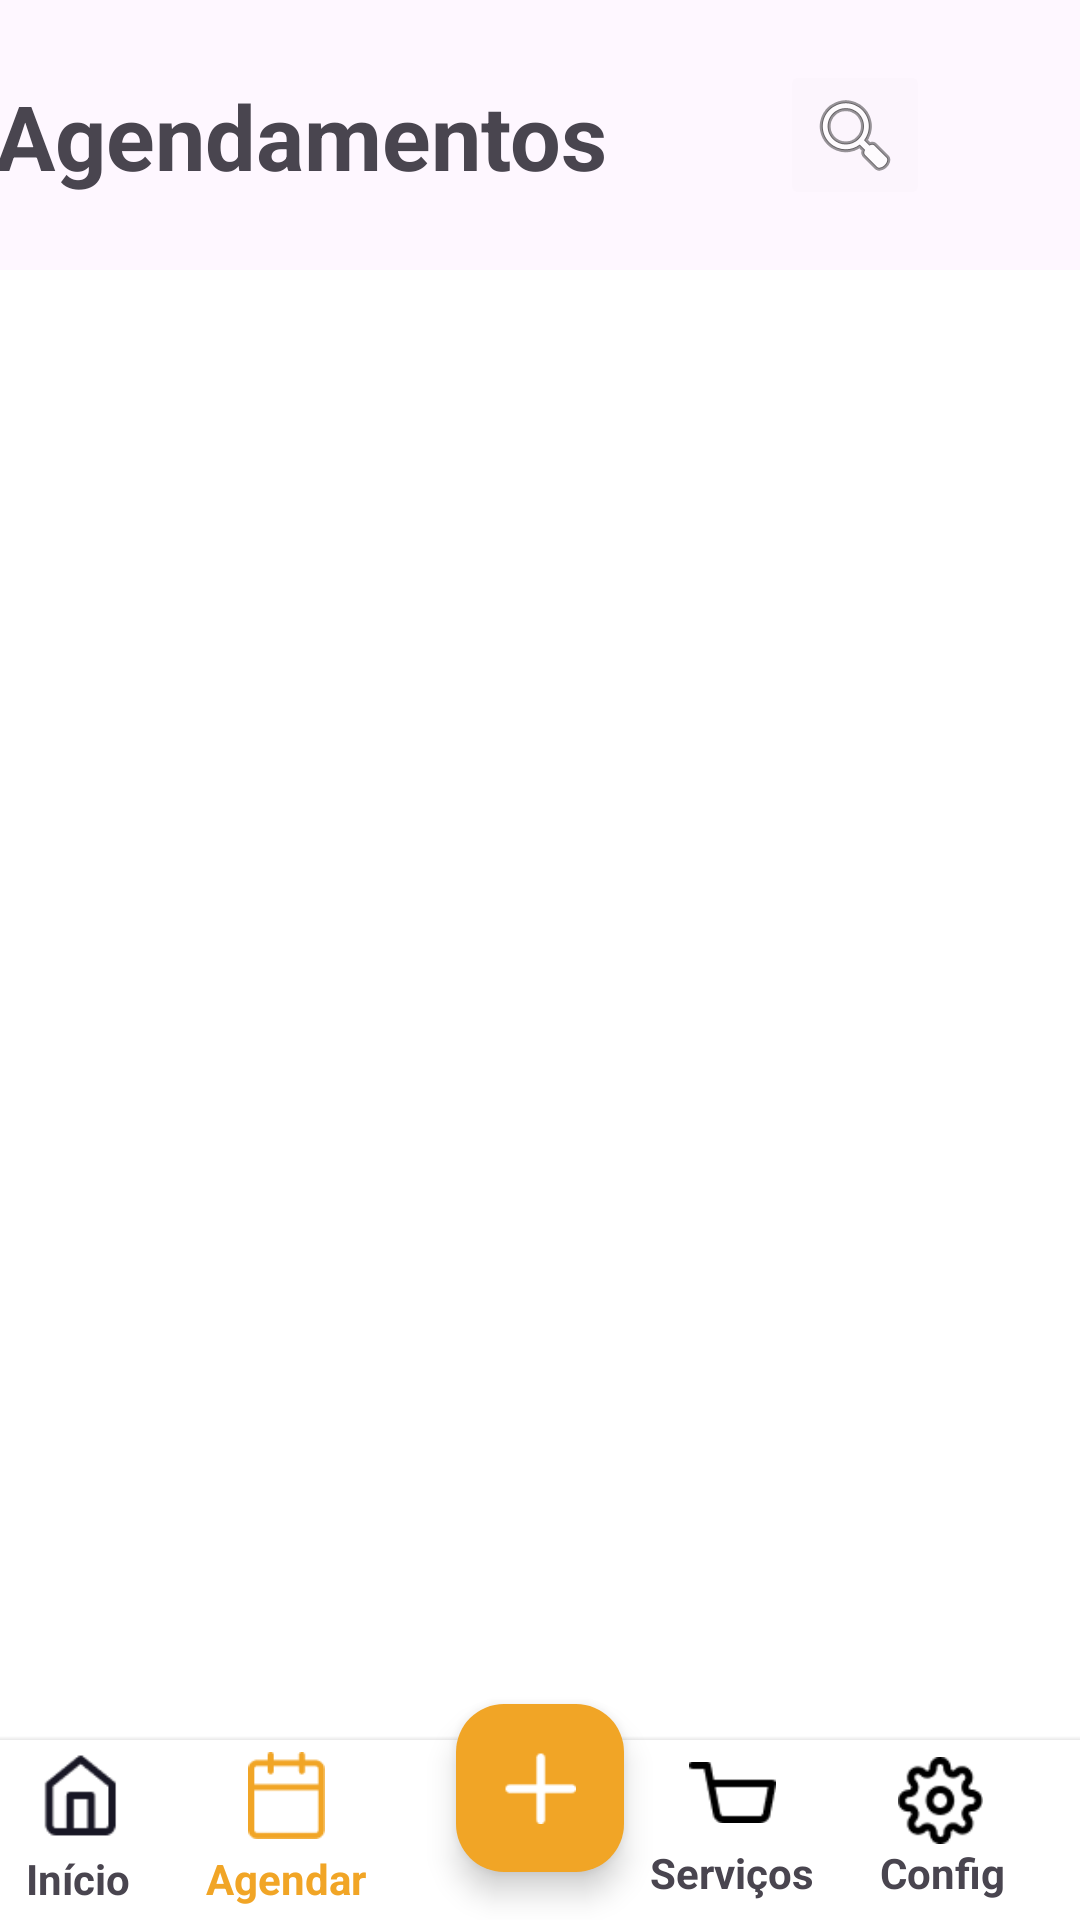

Where to tap for icons on this 1080×1920 app screen, as (x,y):
Add: (540,1788)
calendar: (286,1795)
search: (855,135)
